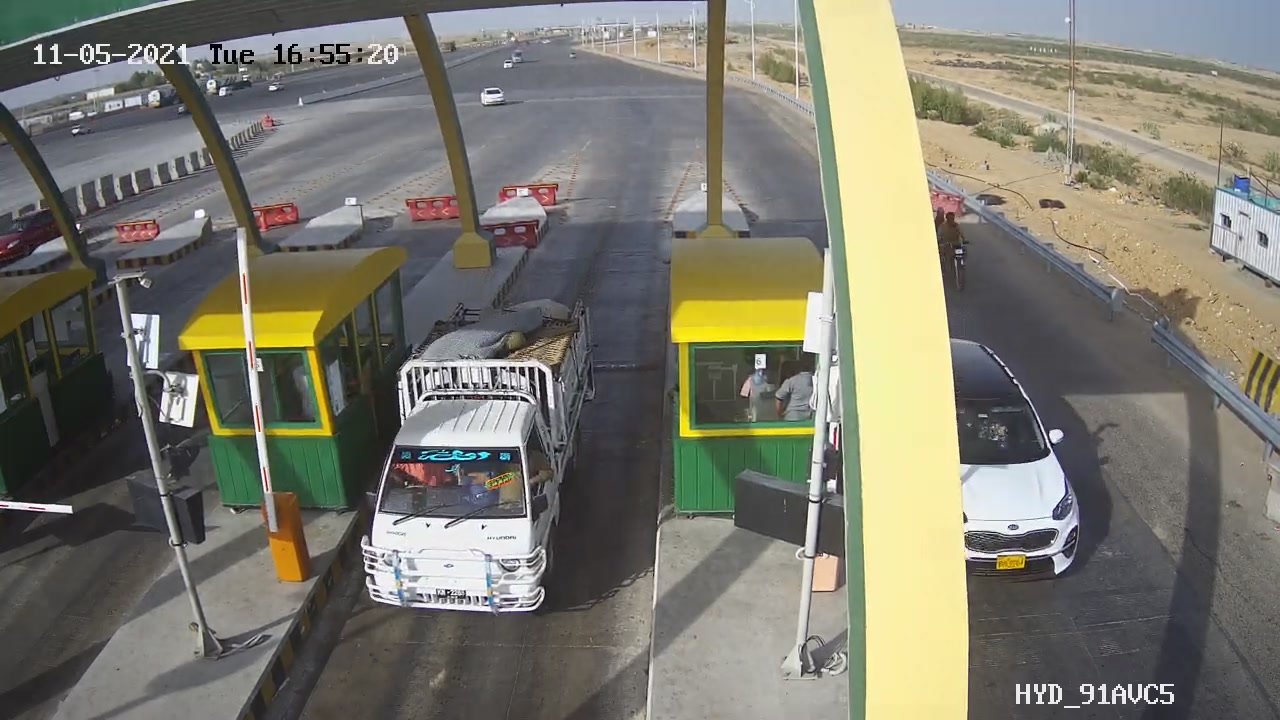F2: (340, 284, 616, 638)
